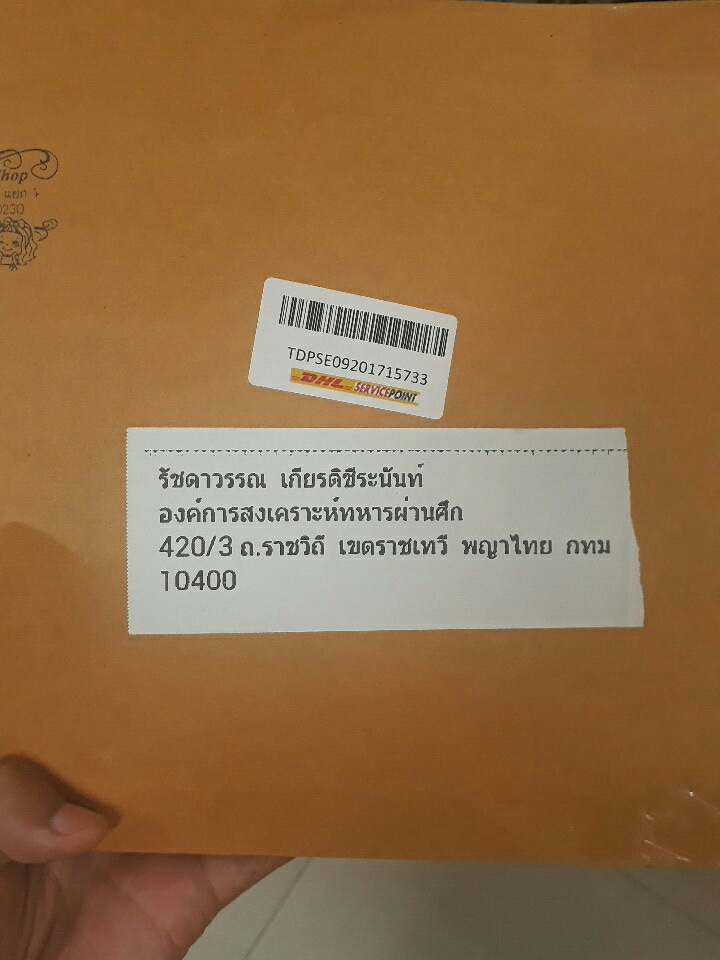ba: (240, 274, 461, 420)
txt: (148, 455, 621, 609)
